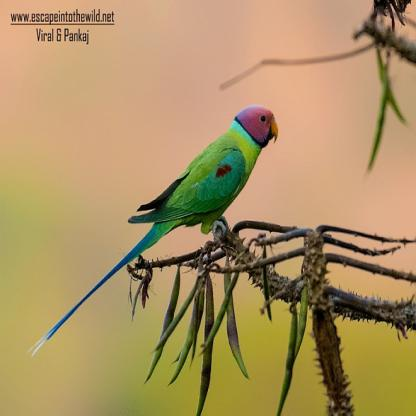Burung: (26, 104, 278, 356)
